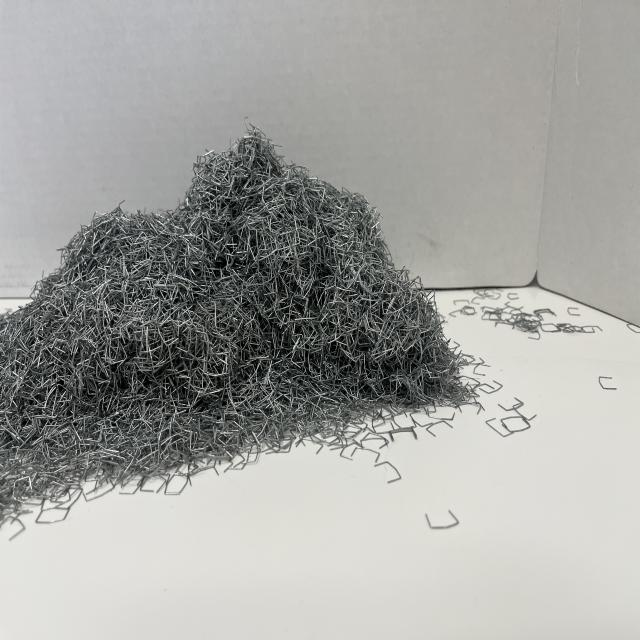staples: (1, 118, 480, 525)
